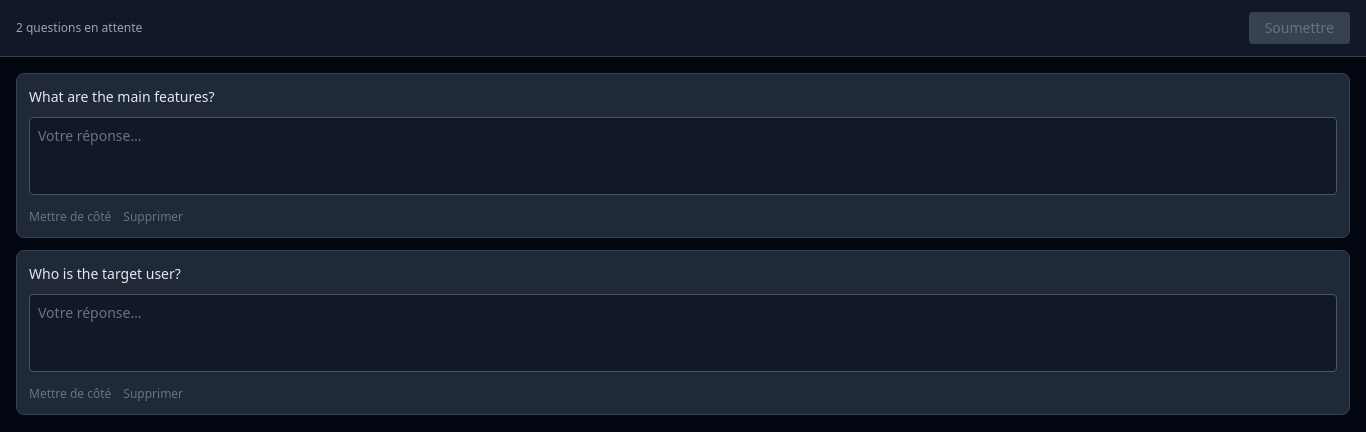
QuestionsPanel — batch submit › shows filled count on submit button
In the text box with placeholder "Votre réponse…" below "What are the main features?": [683, 156] box [29, 117, 1337, 195], type "Answer 1"
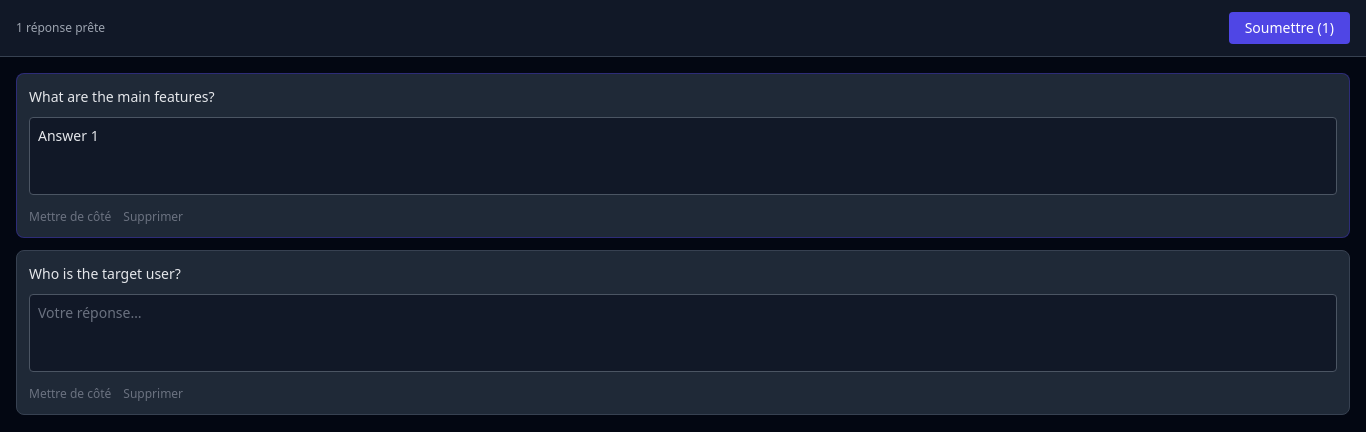
Expected: the button "Soumettre (1)" is shown, [1229, 12, 1350, 44]
